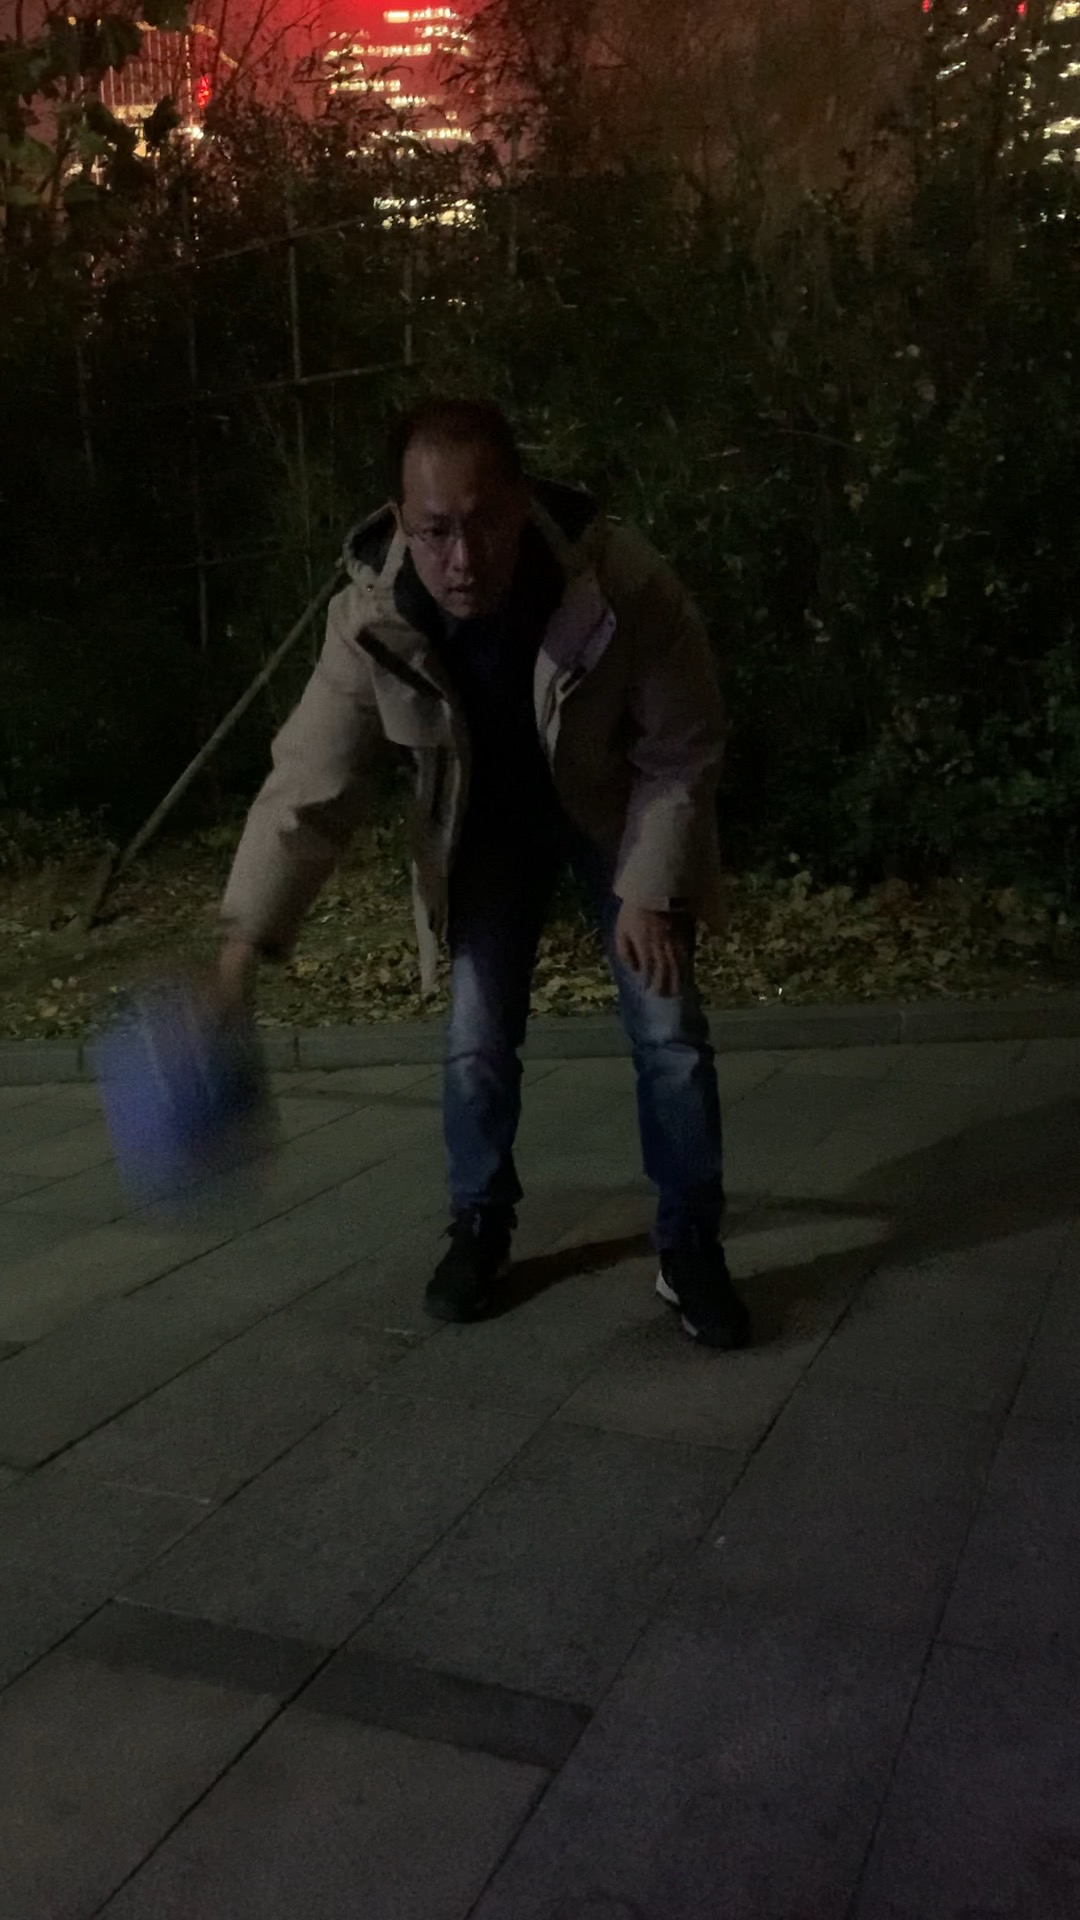ball: (113, 1015, 287, 1185)
